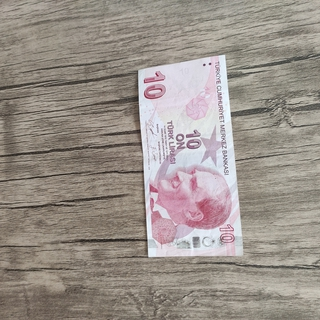10TLFront: (137, 53, 244, 259)
